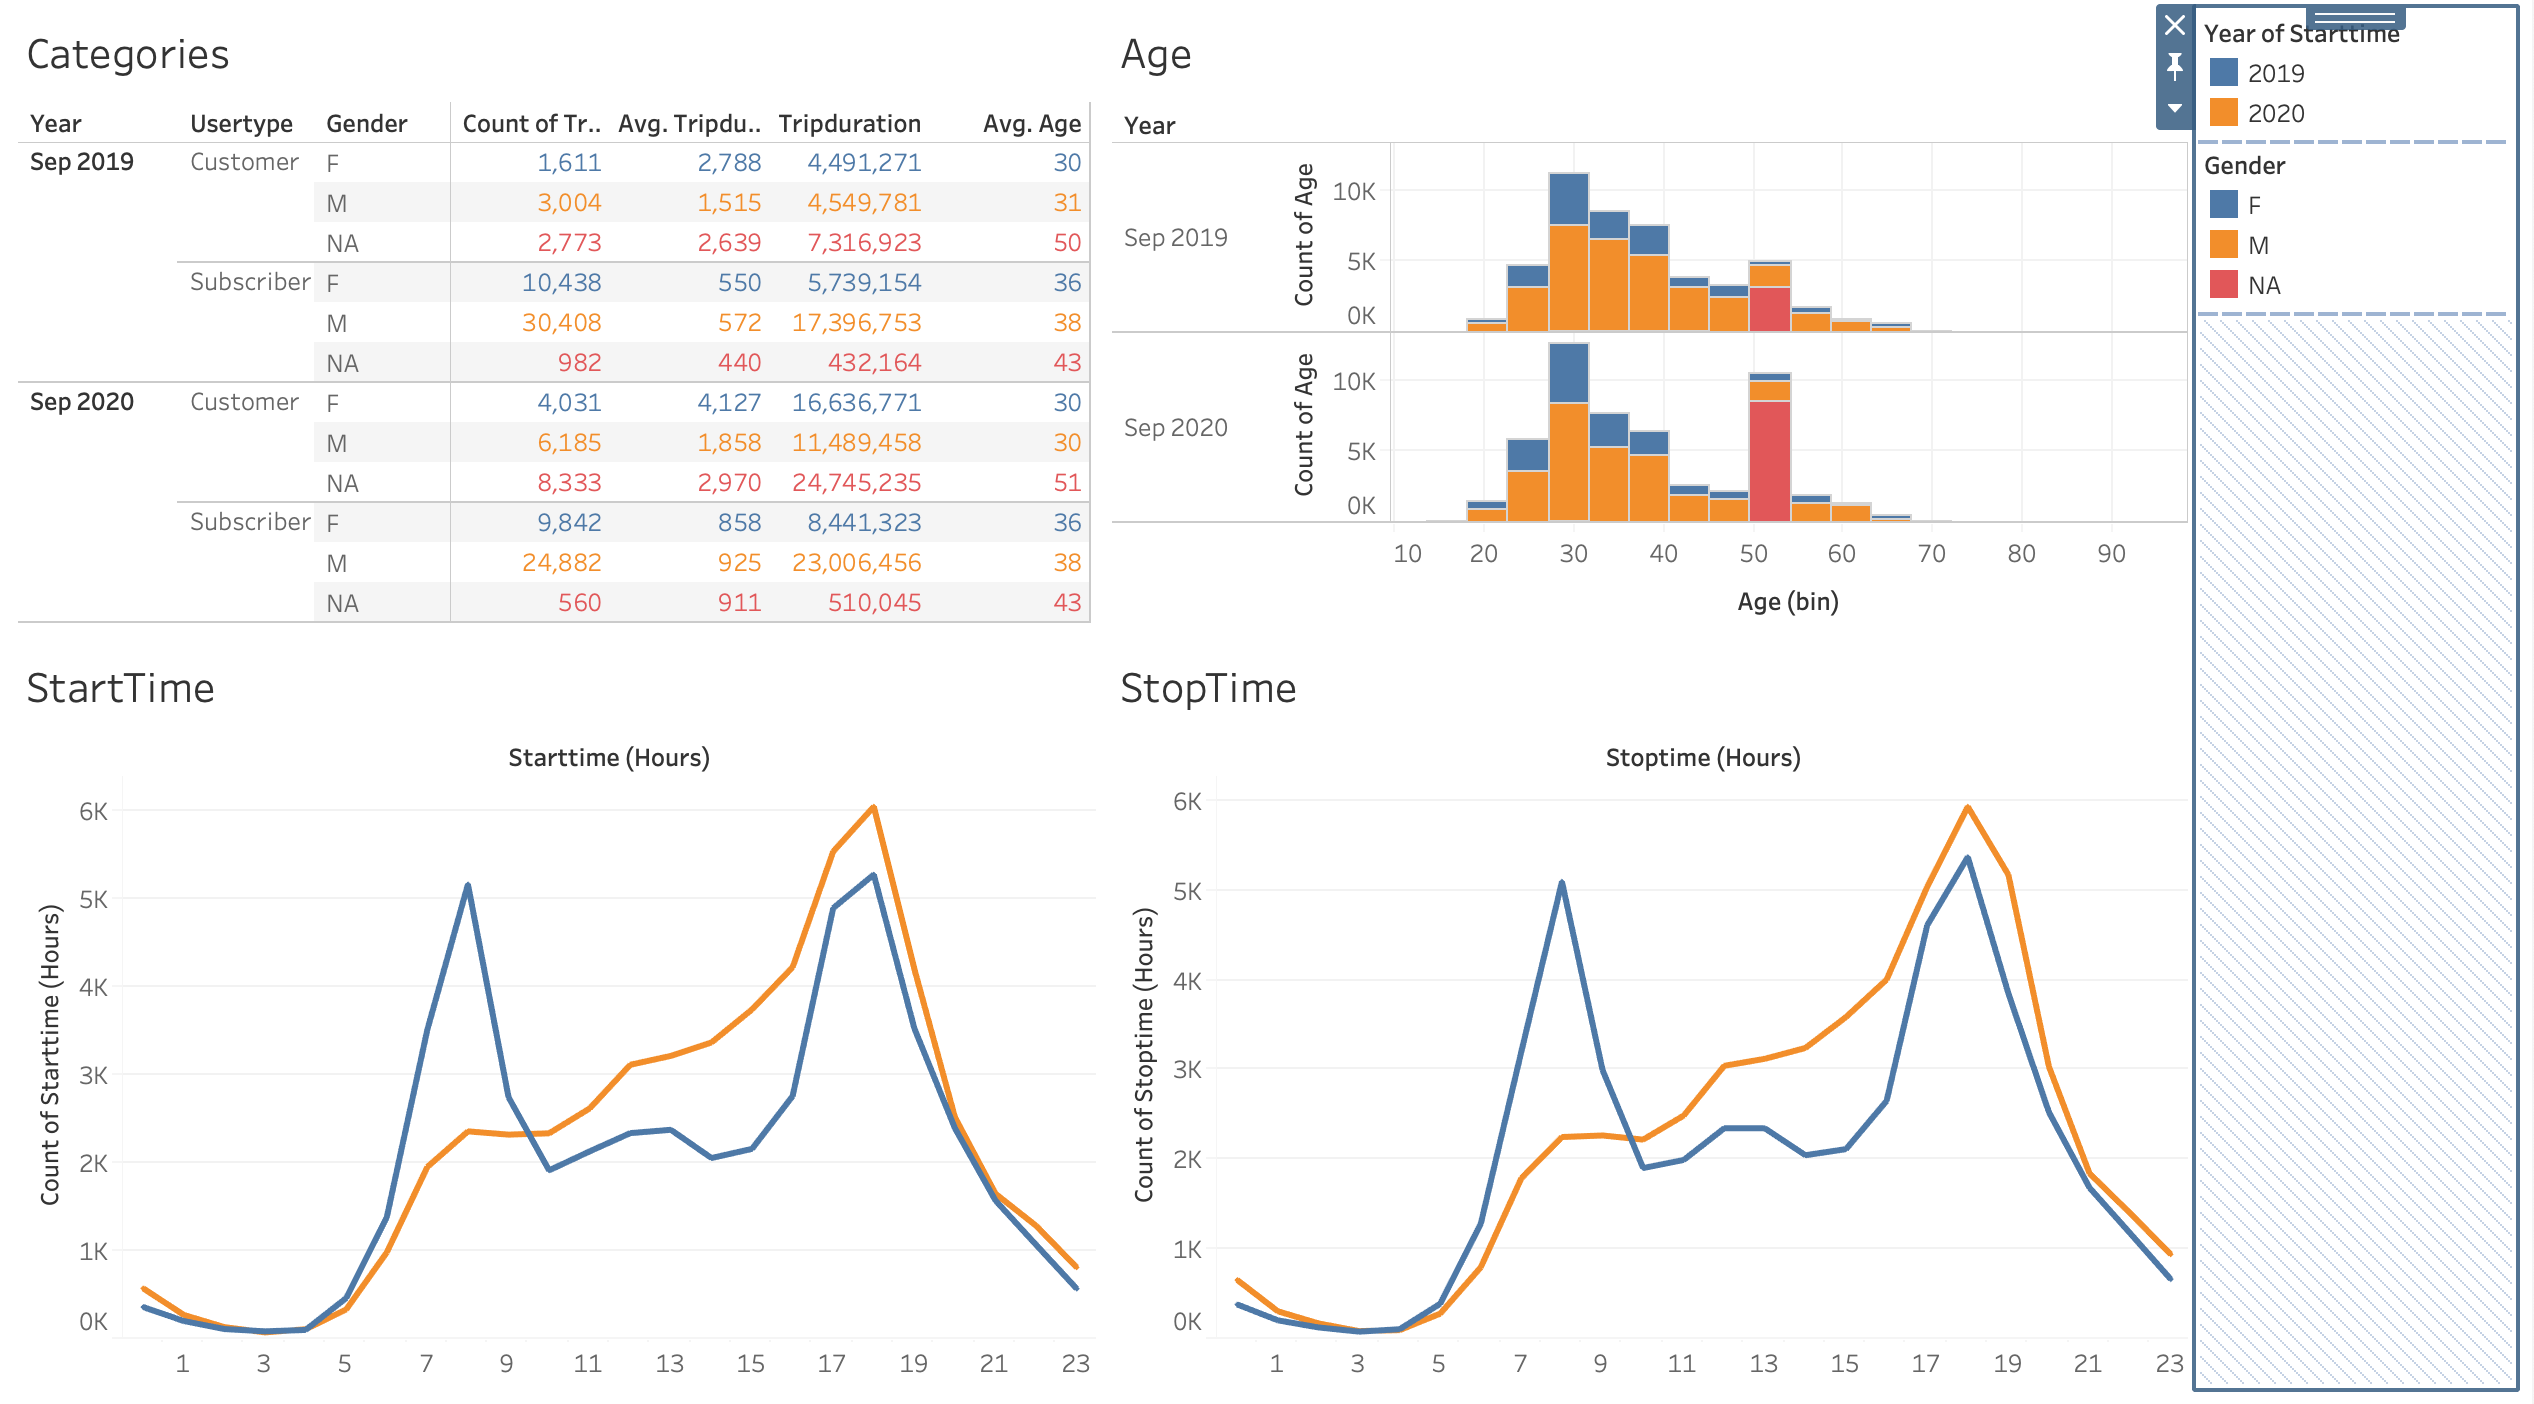

What the dashboard file says about the page in this screenshot:
{"tool":"tableau","page":{"name":"DB_1","canvas":[1000,1000],"units":"permille","ordinal":0},"visuals":[{"type":"worksheet","box":[0,0,1000,1000]},{"type":"worksheet","param":"horz","box":[6.5,11.3,987,977.3]},{"type":"worksheet","box":[6.5,11.3,856.8,977.3]},{"type":"worksheet","title":"Data","mark":"Automatic","rows":["year"],"box":[6.5,11.3,428.4,380.2]},{"type":"worksheet","title":"Age","mark":"Automatic","rows":["year","age"],"cols":["Age (bin)"],"box":[434.9,11.3,428.4,380.2]},{"type":"worksheet","param":"vert","box":[863.3,11.3,130.2,977.3]},{"type":"worksheet","title":"Data","mark":"Automatic","rows":["year"],"param":"[federated.0axtsh30ud2oz713ihg7k1uitwuh].[none:year:nk]","box":[863.3,11.3,130.2,93.5]},{"type":"worksheet","title":"Categories","mark":"Automatic","rows":["year","usertype","gender"],"param":"[federated.0axtsh30ud2oz713ihg7k1uitwuh].[none:gender:nk]","box":[863.3,104.8,130.2,121.8]},{"type":"worksheet","title":"Categories","mark":"Automatic","rows":["year","usertype","gender"],"box":[6.5,391.6,856.8,597.1]}]}

Visuals, with their boxes on the dashboard's canvas, which has no fixed pixel size, in thousandths of its width and height (x1, y1, x2, y2). These are canvas units, not pixel positions in the 2534x1404 screenshot, which may show the page scaled, cropped or inside an application window:
worksheet: 0, 0, 1000, 1000
worksheet: 6, 11, 994, 989
worksheet: 6, 11, 863, 989
"Data" worksheet: 6, 11, 435, 392
"Age" worksheet: 435, 11, 863, 392
worksheet: 863, 11, 994, 989
"Data" worksheet: 863, 11, 994, 105
"Categories" worksheet: 863, 105, 994, 227
"Categories" worksheet: 6, 392, 863, 989
